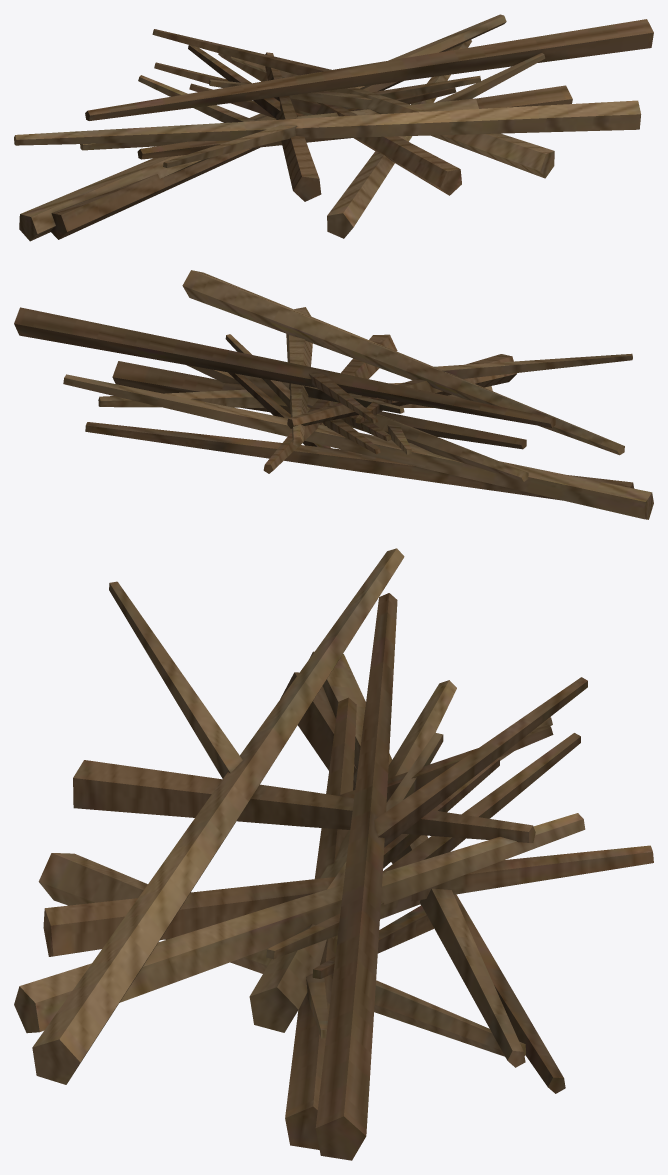
The model's file is branches_pile_idle.glb.
The picture shows the model from 3 angles, top to bottom: view 1: azimuth 30°, elevation 25°; view 2: azimuth 150°, elevation 25°; view 3: azimuth 270°, elevation 25°; orthographic projection. The views are drawn at different scales.
Parts seen in each view (by area): view 1: branches_pile; view 2: branches_pile; view 3: branches_pile.
Boxes of the visible parts, x1,y1,x2,y2 form: branches_pile: (14,14,653,241); branches_pile: (14,270,653,519); branches_pile: (14,548,653,1160).
Size of the model in its own units: 1.03 by 0.1712 by 0.5217.
Materials: 1 (1 with a texture image).
